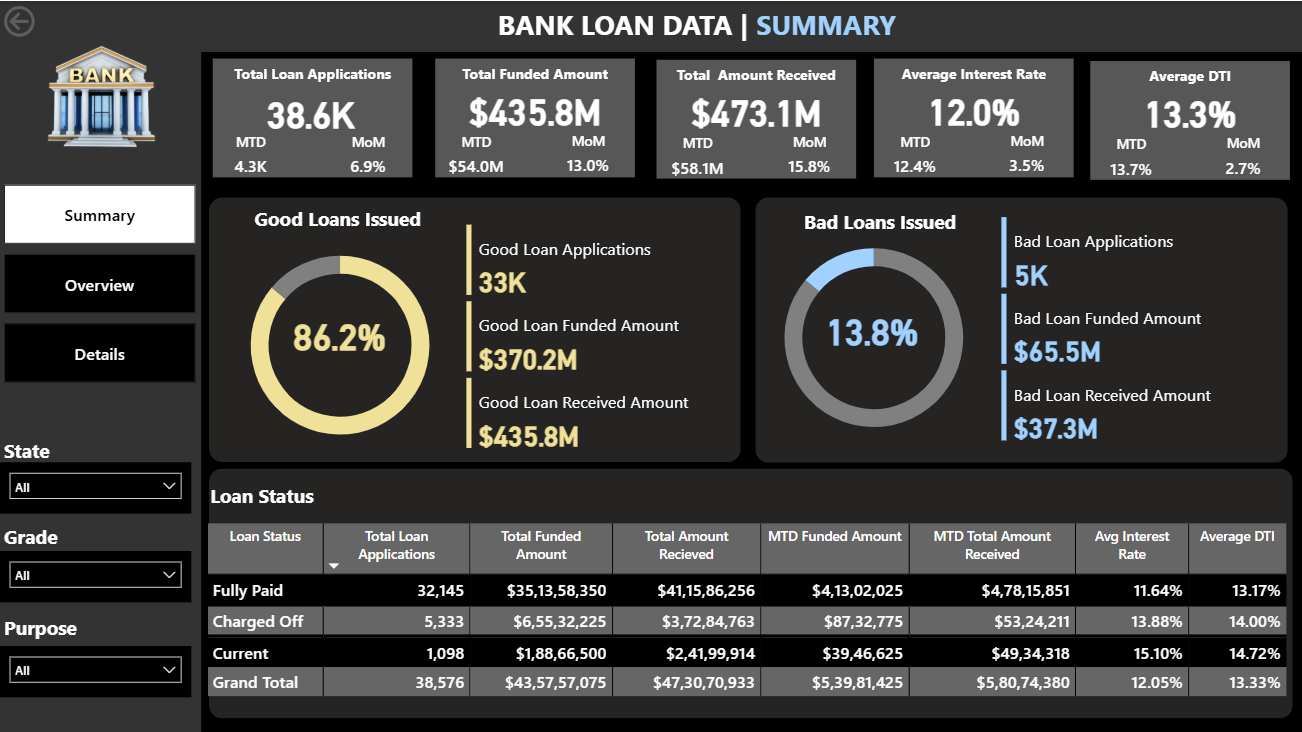

This screenshot's page, from the dashboard's own definition file:
{"tool":"powerbi","page":{"name":"Summary","canvas":[1280,720],"ordinal":0},"visuals":[{"type":"shape","box":[0,49.1,198.8,671.2],"z":0},{"type":"shape","box":[0,0,1280,50],"z":1000},{"type":"textbox","box":[484.4,0,408.9,46.7],"z":2000},{"type":"group","id":"g1","title":"Group 1","box":[206.1,56.4,200,126.4],"z":3000},{"type":"shape","box":[209.3,56.4,196.2,116.6],"z":3000,"group":"g5"},{"type":"shape","box":[428.2,56.4,196.2,116.6],"z":3000,"group":"g6"},{"type":"shape","box":[858.9,56.4,196.2,116.6],"z":3000,"group":"g7"},{"type":"shape","box":[645.4,57.7,196.2,116.6],"z":3000,"group":"g8"},{"type":"shape","box":[1071.2,58.9,196.2,116.6],"z":3000,"group":"g9"},{"type":"shape","box":[206.1,192.6,522,260],"z":3000,"group":"g12"},{"type":"group","id":"g2","title":"Group 1","box":[428.2,56.4,196.3,126.4],"z":4000},{"type":"card","fields":{"Values":["Bank_Loan_Data.Total Funded Amount"]},"box":[428.2,56.4,196.2,100.2],"z":4000,"group":"g6"},{"type":"card","fields":{"Values":["Bank_Loan_Data.Avg Interest Rate"]},"box":[858.9,56.4,196.2,100.2],"z":4000,"group":"g7"},{"type":"card","fields":{"Values":["Bank_Loan_Data.Total Amount Recieved"]},"box":[645.4,57.7,196.2,100.2],"z":4000,"group":"g8"},{"type":"card","fields":{"Values":["Bank_Loan_Data.AVG DTI"]},"box":[1071.2,58.9,196.2,100.2],"z":4000,"group":"g9"},{"type":"card","fields":{"Values":["Bank_Loan_Data.Total Loan Applications"]},"box":[206.1,84.1,200,49.1],"z":4000,"group":"g5"},{"type":"textbox","box":[209.3,56.4,196.2,35.7],"z":5000,"group":"g5"},{"type":"textbox","box":[428.2,56.4,196.2,35.7],"z":5000,"group":"g6"},{"type":"textbox","box":[858.9,56.4,196.2,35.7],"z":5000,"group":"g7"},{"type":"group","id":"g3","title":"Group 1","box":[645.4,57.7,196.3,125.2],"z":5000},{"type":"textbox","box":[645.4,57.7,196.2,35.7],"z":5000,"group":"g8"},{"type":"textbox","box":[1071.2,58.9,196.2,35.7],"z":5000,"group":"g9"},{"type":"card","title":"MTD","fields":{"Values":["Bank_Loan_Data.MTD Funded Amount"]},"box":[434.8,128.6,68.6,53.5],"z":6000,"group":"g6"},{"type":"card","title":"MTD","fields":{"Values":["Bank_Loan_Data.MTD Avg Interest Rate"]},"box":[865.5,128.6,68.6,53.5],"z":6000,"group":"g7"},{"type":"card","title":"MTD","fields":{"Values":["Bank_Loan_Data.MTD Loan Applications"]},"box":[218.9,129.1,57.6,53.5],"z":6000,"group":"g5"},{"type":"card","title":"MTD","fields":{"Values":["Bank_Loan_Data.MTD Total Amount Received"]},"box":[652,129.9,68.6,53.5],"z":6000,"group":"g8"},{"type":"card","title":"MTD","fields":{"Values":["Bank_Loan_Data.MTD Avg DTI"]},"box":[1077.8,131.1,68.6,53.5],"z":6000,"group":"g9"},{"type":"textbox","box":[233.9,196.2,196.3,35.6],"z":6000,"group":"g12"},{"type":"group","id":"g4","title":"Group 1","box":[858.9,56.4,196.3,126.4],"z":7000},{"type":"card","title":"MoM","fields":{"Values":["Bank_Loan_Data.MoM Total Funded Amount"]},"box":[550.2,127.2,57.6,53.5],"z":7000,"group":"g6"},{"type":"card","title":"MoM","fields":{"Values":["Bank_Loan_Data.MoM Avg Interest Rate"]},"box":[980.9,127.2,57.6,53.5],"z":7000,"group":"g7"},{"type":"card","title":"MoM","fields":{"Values":["Bank_Loan_Data.MoM Total Amount Recieved"]},"box":[767.4,128.5,57.6,53.5],"z":7000,"group":"g8"},{"type":"card","title":"MoM","fields":{"Values":["Bank_Loan_Data.MoM Loan Application"]},"box":[334.2,129.1,57.6,53.5],"z":7000,"group":"g5"},{"type":"card","title":"MoM","fields":{"Values":["Bank_Loan_Data.MoM AVG DTI"]},"box":[1193.2,129.7,57.6,53.5],"z":7000,"group":"g9"},{"type":"actionButton","box":[0,0,100,40],"z":8000},{"type":"group","id":"g5","title":"Group 2","box":[206.1,56.4,200,126.4],"z":8001,"group":"g1"},{"type":"group","id":"g6","title":"Group 2","box":[428.2,56.4,196.2,125.7],"z":8001,"group":"g2"},{"type":"group","id":"g7","title":"Group 2","box":[858.9,56.4,196.2,125.7],"z":8001,"group":"g4"},{"type":"group","id":"g8","title":"Group 2","box":[645.4,57.7,196.3,125.2],"z":8001,"group":"g3"},{"type":"group","id":"g9","title":"Group 2","box":[1071.2,58.9,196.2,125.7],"z":8001,"group":"g10"},{"type":"donutChart","fields":{"Category":["Bank_Loan_Data.Good Vs Bad Loans"],"Y":["Bank_Loan_Data.Total Loan Applications"]},"box":[209.4,223.2,250.3,229.4],"z":8750,"group":"g12"},{"type":"group","id":"g10","title":"Group 1","box":[1071.2,58.9,195.1,126.4],"z":9000},{"type":"shape","box":[206.1,458.9,1063.8,245.4],"z":10000},{"type":"tableEx","fields":{"Values":["Bank_Loan_Data.loan_status","Bank_Loan_Data.Total Loan Applications","Bank_Loan_Data.Total Funded Amount","Bank_Loan_Data.Total Amount Recieved","Bank_Loan_Data.MTD Funded Amount","Bank_Loan_Data.MTD Total Amount Received","Bank_Loan_Data.Avg Interest Rate","Bank_Loan_Data.AVG DTI"]},"box":[198.8,508,1069.9,196.3],"z":11000},{"type":"shape","box":[742.8,192.6,522.8,260.7],"z":12000,"group":"g11"},{"type":"textbox","box":[202.5,467.5,196.3,35.6],"z":12000},{"type":"cardVisual","fields":{"Data":["Bank_Loan_Data.Good Loan Applications","Bank_Loan_Data.Good Loan Funded Amount","Bank_Loan_Data.Good Loan Received Amount"]},"box":[453.5,214.6,296.9,230.7],"z":13000,"group":"g12"},{"type":"slicer","fields":{"Values":["Bank_Loan_Data.address_state"]},"box":[0,452.3,189,50.3],"z":13000},{"type":"textbox","box":[0,423.3,190.2,35.6],"z":14000},{"type":"donutChart","fields":{"Category":["Bank_Loan_Data.Good Vs Bad Loans"],"Y":["Bank_Loan_Data.Total Loan Applications"]},"box":[733.7,216,250.3,229.4],"z":15000,"group":"g11"},{"type":"slicer","fields":{"Values":["Bank_Loan_Data.grade"]},"box":[0,539.4,189,50.3],"z":15000},{"type":"textbox","box":[766.8,198.8,196.3,35.6],"z":16000,"group":"g11"},{"type":"textbox","box":[0,508,189,35.6],"z":16000},{"type":"card","fields":{"Values":["Bank_Loan_Data.Bad Loan Percentage"]},"box":[749.7,289.6,214.7,66.3],"z":17000,"group":"g11"},{"type":"slicer","fields":{"Values":["Bank_Loan_Data.purpose"]},"box":[0,632.6,189,50.3],"z":17000},{"type":"cardVisual","fields":{"Data":["Bank_Loan_Data.Bad Loan Applications","Bank_Loan_Data.Bad Loan Funded Amount","Bank_Loan_Data.Bad Loan Received Amount"]},"box":[979.1,207.4,296.9,230.7],"z":18000,"group":"g11"},{"type":"textbox","box":[0,597.5,190.2,35.6],"z":18000},{"type":"pageNavigator","box":[4.9,180.4,189,196.3],"z":19000},{"type":"group","id":"g11","title":"Group 3","box":[733.7,192.6,542.3,260.1],"z":20000},{"type":"group","id":"g12","title":"Group 4","box":[206.1,192.6,544.8,260.1],"z":21000},{"type":"card","fields":{"Values":["Bank_Loan_Data.Good Loan Percentage"]},"box":[227,294.5,214.7,66.3],"z":21500},{"type":"image","box":[0,33.1,198.8,126.4],"z":21501}]}

Visuals, with their boxes in screenshot pixels (x1, y1, x2, y2), scaled from the page's 1280x720 canvas onto the 1302x732 screenshot:
shape: rect(0, 50, 202, 731)
shape: rect(0, 0, 1301, 51)
textbox: rect(493, 0, 909, 47)
"Group 1" group: rect(210, 57, 413, 186)
shape: rect(213, 57, 412, 176)
shape: rect(436, 57, 635, 176)
shape: rect(874, 57, 1073, 176)
shape: rect(656, 59, 856, 177)
shape: rect(1090, 60, 1289, 178)
shape: rect(210, 196, 741, 460)
"Group 1" group: rect(436, 57, 635, 186)
card - Bank_Loan_Data.Total Funded Amount: rect(436, 57, 635, 159)
card - Bank_Loan_Data.Avg Interest Rate: rect(874, 57, 1073, 159)
card - Bank_Loan_Data.Total Amount Recieved: rect(656, 59, 856, 161)
card - Bank_Loan_Data.AVG DTI: rect(1090, 60, 1289, 162)
card - Bank_Loan_Data.Total Loan Applications: rect(210, 86, 413, 135)
textbox: rect(213, 57, 412, 94)
textbox: rect(436, 57, 635, 94)
textbox: rect(874, 57, 1073, 94)
"Group 1" group: rect(656, 59, 856, 186)
textbox: rect(656, 59, 856, 95)
textbox: rect(1090, 60, 1289, 96)
"MTD" card: rect(442, 131, 512, 185)
"MTD" card: rect(880, 131, 950, 185)
"MTD" card: rect(223, 131, 281, 186)
"MTD" card: rect(663, 132, 733, 186)
"MTD" card: rect(1096, 133, 1166, 188)
textbox: rect(238, 199, 438, 236)
"Group 1" group: rect(874, 57, 1073, 186)
"MoM" card: rect(560, 129, 618, 184)
"MoM" card: rect(998, 129, 1056, 184)
"MoM" card: rect(781, 131, 839, 185)
"MoM" card: rect(340, 131, 399, 186)
"MoM" card: rect(1214, 132, 1272, 186)
actionButton: rect(0, 0, 102, 41)
"Group 2" group: rect(210, 57, 413, 186)
"Group 2" group: rect(436, 57, 635, 185)
"Group 2" group: rect(874, 57, 1073, 185)
"Group 2" group: rect(656, 59, 856, 186)
"Group 2" group: rect(1090, 60, 1289, 188)
donutChart - Bank_Loan_Data.Good Vs Bad Loans x Bank_Loan_Data.Total Loan Applications: rect(213, 227, 468, 460)
"Group 1" group: rect(1090, 60, 1288, 188)
shape: rect(210, 467, 1292, 716)
tableEx - Bank_Loan_Data.loan_status x Bank_Loan_Data.Total Loan Applications: rect(202, 516, 1291, 716)
shape: rect(756, 196, 1287, 461)
textbox: rect(206, 475, 406, 511)
cardVisual - Bank_Loan_Data.Good Loan Applications x Bank_Loan_Data.Good Loan Funded Amount: rect(461, 218, 763, 453)
slicer - Bank_Loan_Data.address_state: rect(0, 460, 192, 511)
textbox: rect(0, 430, 193, 467)
donutChart - Bank_Loan_Data.Good Vs Bad Loans x Bank_Loan_Data.Total Loan Applications: rect(746, 220, 1001, 453)
slicer - Bank_Loan_Data.grade: rect(0, 548, 192, 600)
textbox: rect(780, 202, 980, 238)
textbox: rect(0, 516, 192, 553)
card - Bank_Loan_Data.Bad Loan Percentage: rect(763, 294, 981, 362)
slicer - Bank_Loan_Data.purpose: rect(0, 643, 192, 694)
cardVisual - Bank_Loan_Data.Bad Loan Applications x Bank_Loan_Data.Bad Loan Funded Amount: rect(996, 211, 1298, 445)
textbox: rect(0, 607, 193, 644)
pageNavigator: rect(5, 183, 197, 383)
"Group 3" group: rect(746, 196, 1298, 460)
"Group 4" group: rect(210, 196, 764, 460)
card - Bank_Loan_Data.Good Loan Percentage: rect(231, 299, 449, 367)
image: rect(0, 34, 202, 162)
